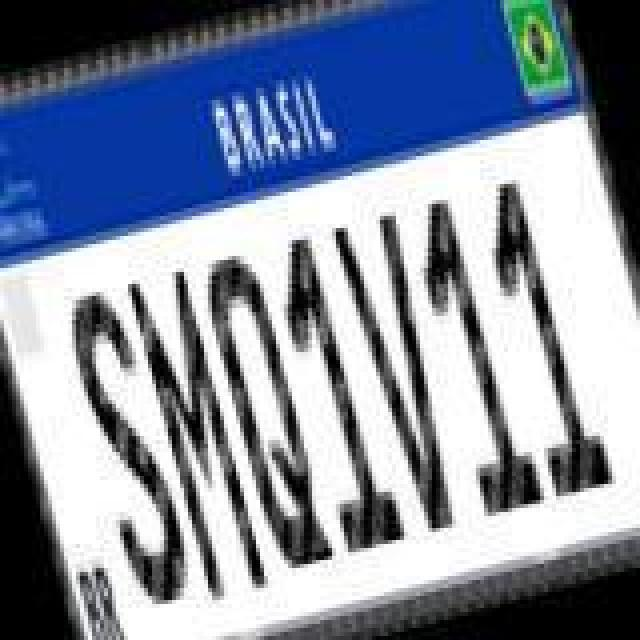1: (398, 184, 546, 520), (264, 226, 408, 558), (472, 170, 616, 502)
M: (124, 262, 268, 602)
Q: (192, 242, 336, 574)
S: (54, 278, 202, 618)
V: (330, 206, 478, 538)
